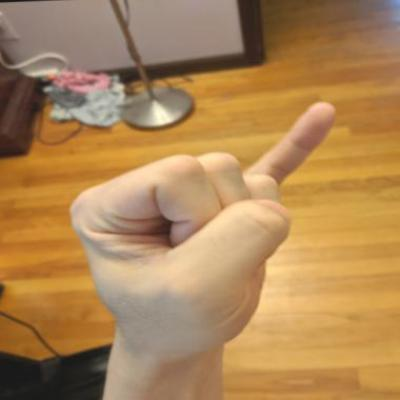hand: (60, 97, 351, 363)
